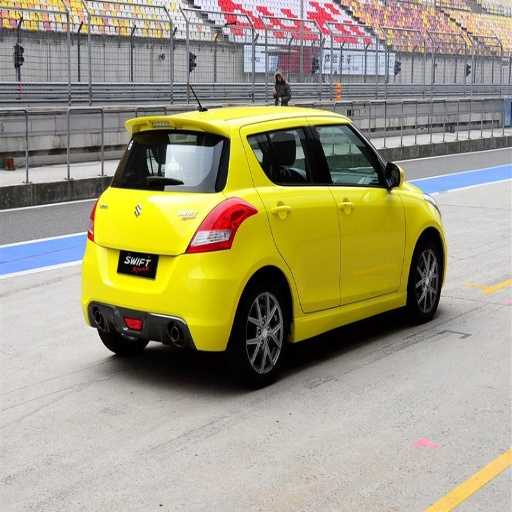back_bumper: (82, 241, 247, 352)
back_right_door: (249, 118, 340, 315)
trunk: (90, 189, 204, 278)
